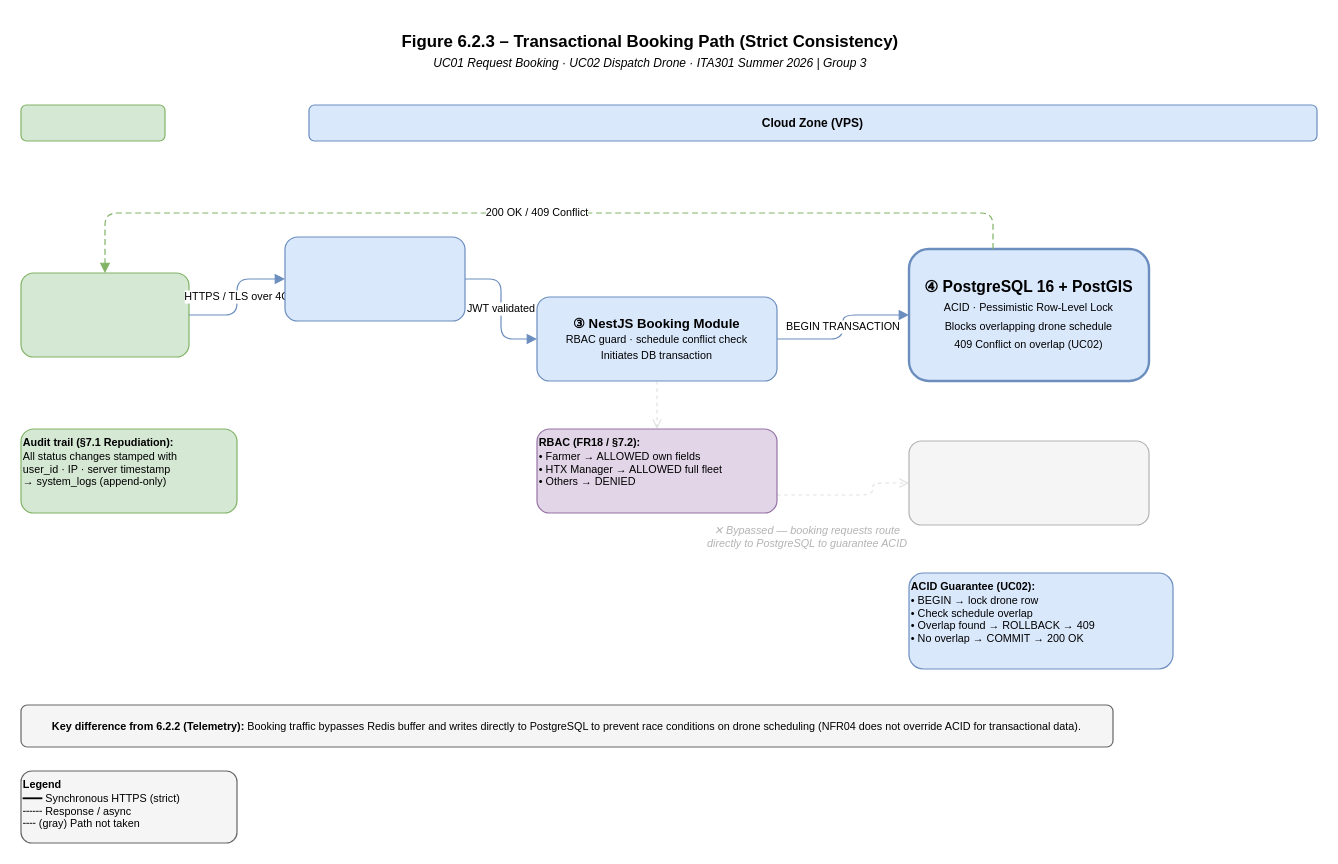
Image size: 1338x864. Some labels were removed from this diagram. The shapes that lost their labels are listed below. From the top down, each one's box as (x1, y1, x2, y2) in pixels, then its label:
(20, 104, 165, 141): Edge Zone
(284, 236, 465, 321): ② Nginx TLS 1.3 termination Routes to Booking module
(20, 272, 189, 357): ① Client app Farmer mobile or HTX Web Dashboard
(908, 440, 1149, 525): Redis Stack NOT used for bookings (eventual consistency risk)
